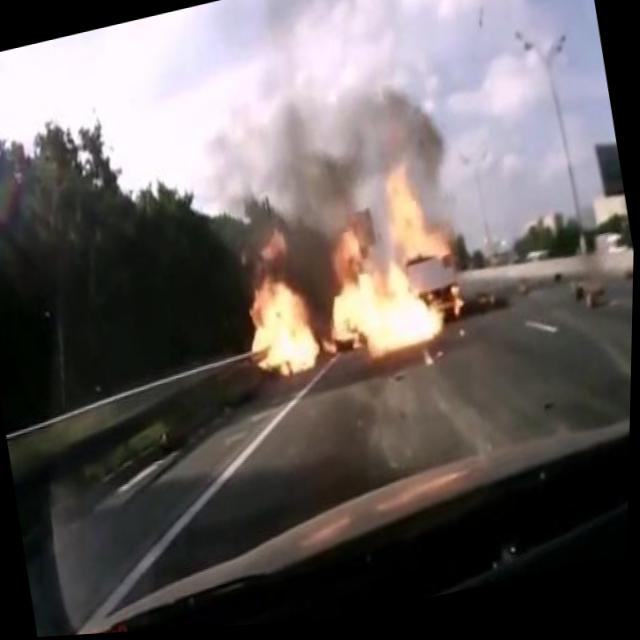fire: (218, 137, 482, 400)
